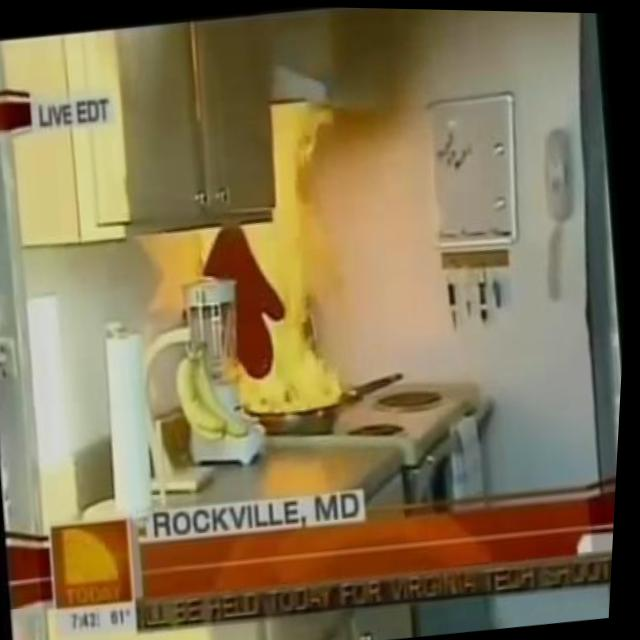fire: (191, 88, 360, 419)
